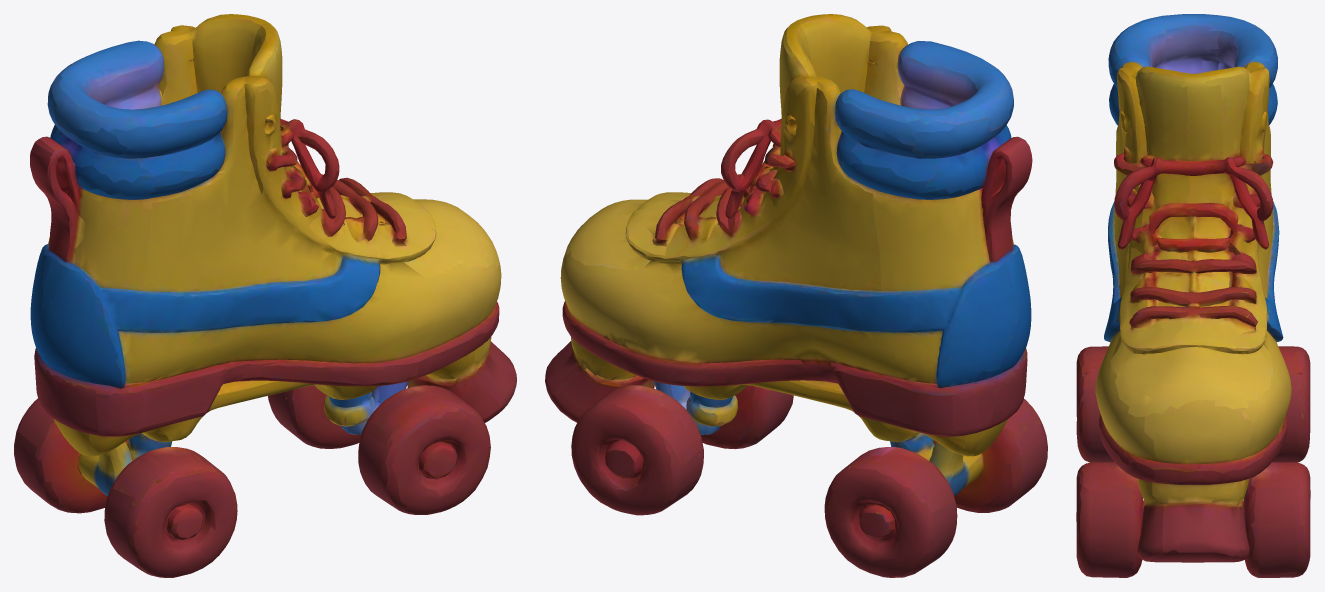
Rendered from skate.glb.
3 views of the same model, side by side, from view 1: azimuth 30°, elevation 25°; view 2: azimuth 150°, elevation 25°; view 3: azimuth 270°, elevation 25° (orthographic). The views are drawn at different scales.
Visible parts, largest first — view 1: world; view 2: world; view 3: world.
Boxes of the visible parts, <box> form: world: <box>14,14,516,577</box>; world: <box>545,14,1047,577</box>; world: <box>1076,14,1310,577</box>.
Bounding box in the file's own units: 0.18 × 0.1773 × 0.0843.
Materials: 1 (1 with a texture image).
